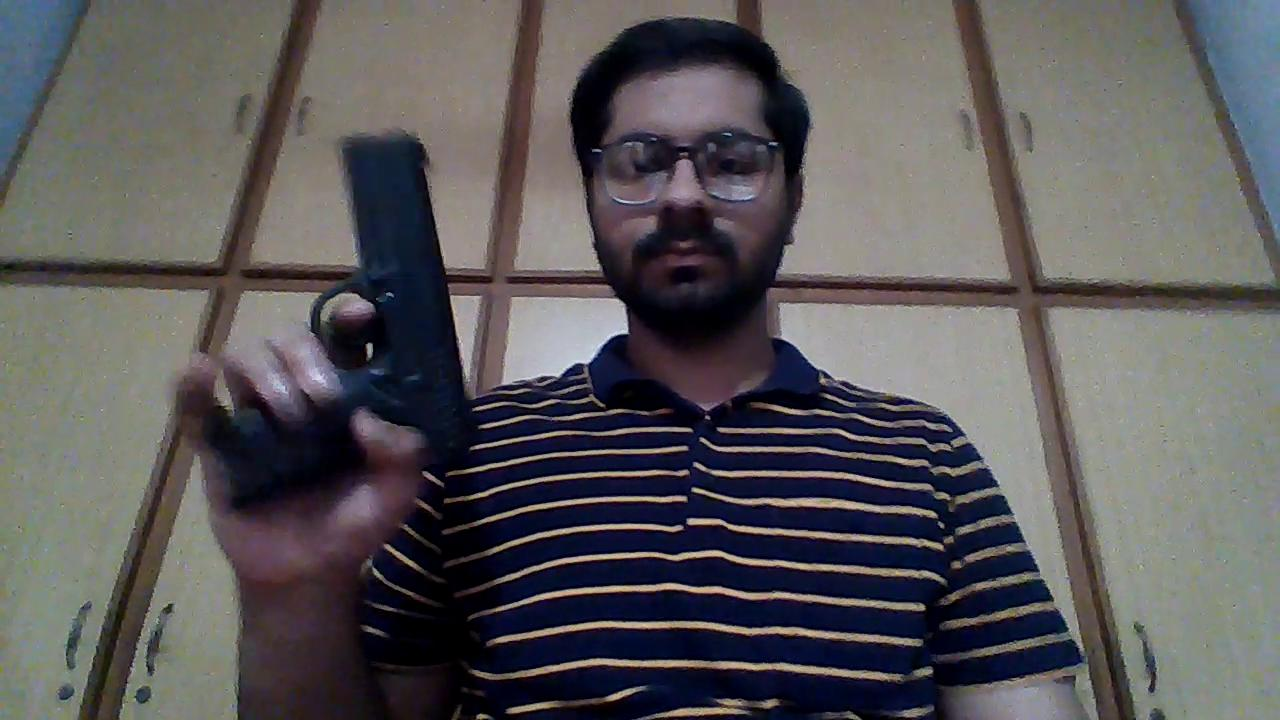criminal: (170, 18, 1095, 720)
weapon: (203, 126, 484, 516)
